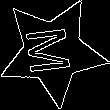M_E: (25, 25, 80, 78)
